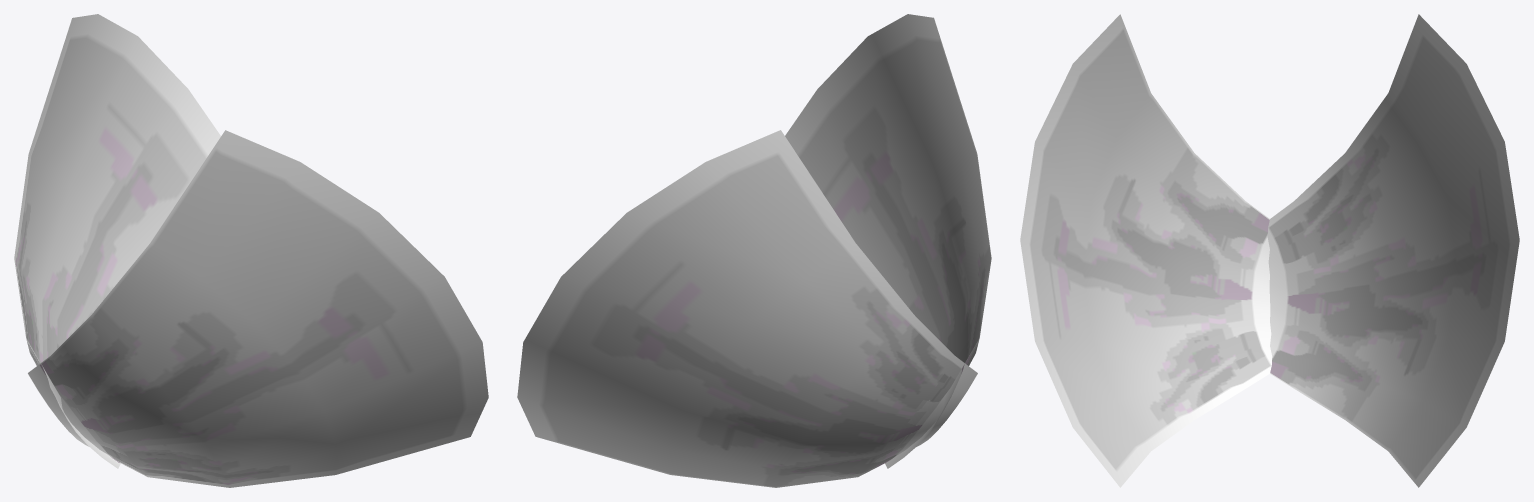
Rendered from baoqi01.FBX.
3 views of the same model, side by side, from view 1: azimuth 30°, elevation 25°; view 2: azimuth 150°, elevation 25°; view 3: azimuth 270°, elevation 25° (orthographic). The views are drawn at different scales.
Parts seen in each view (by area): view 1: baoqi01; view 2: baoqi01; view 3: baoqi01.
Boxes of the visible parts, x1=… form: baoqi01: x1=14, y1=14, x2=488, y2=487; baoqi01: x1=517, y1=14, x2=991, y2=487; baoqi01: x1=1020, y1=14, x2=1519, y2=487.
Size of the model in its own units: 58.79 by 62.58 by 73.42.
